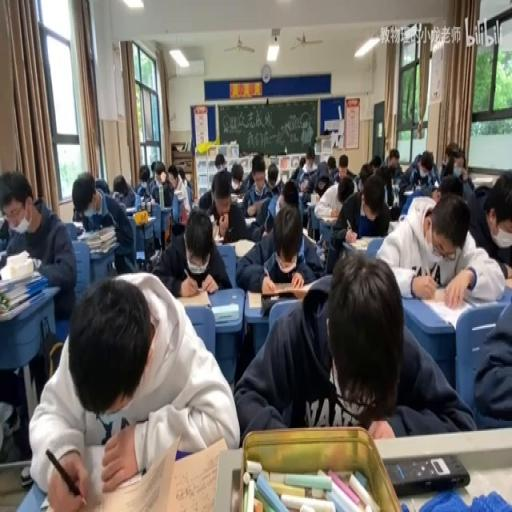calculator: (418, 292, 482, 328), (246, 284, 312, 310), (77, 225, 116, 253), (174, 287, 210, 307), (210, 300, 238, 322), (231, 236, 256, 256), (346, 235, 372, 250), (125, 213, 154, 226), (470, 175, 496, 188), (246, 193, 266, 209), (317, 242, 326, 263), (387, 219, 400, 233), (320, 214, 338, 224), (71, 220, 83, 234), (38, 494, 49, 509), (302, 226, 312, 240), (243, 214, 256, 224), (124, 205, 137, 213), (230, 193, 241, 202), (505, 276, 512, 290), (404, 186, 414, 194), (306, 198, 315, 206), (432, 178, 438, 186)
paper: (28, 270, 235, 511), (233, 250, 469, 440), (378, 188, 503, 307), (0, 168, 77, 326), (235, 198, 322, 292), (152, 202, 230, 294), (324, 169, 390, 270), (471, 286, 512, 429), (397, 148, 440, 212), (198, 159, 236, 215), (438, 142, 474, 196), (73, 175, 110, 215), (296, 158, 316, 225), (110, 170, 136, 208), (243, 154, 268, 189), (312, 158, 335, 196), (171, 190, 191, 230), (383, 146, 403, 180), (134, 165, 153, 199), (336, 150, 355, 180), (282, 179, 298, 206), (357, 164, 373, 186), (230, 164, 244, 188), (214, 152, 228, 174), (338, 181, 352, 202), (266, 164, 278, 188), (176, 165, 189, 186), (0, 218, 9, 246), (391, 180, 400, 208), (370, 154, 382, 172), (168, 170, 178, 188), (430, 188, 440, 202), (306, 151, 314, 165), (150, 161, 157, 176), (298, 156, 304, 170)
person: (384, 452, 468, 494)
